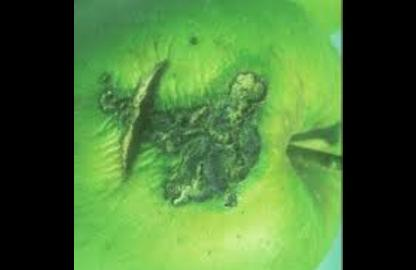defect: (84, 53, 284, 211)
